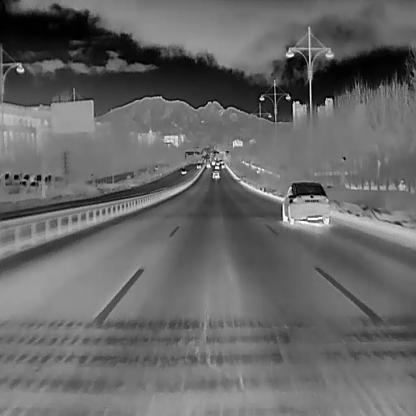car: (281, 181, 330, 224), (211, 170, 219, 179), (180, 167, 187, 174), (205, 162, 211, 168), (196, 162, 201, 168), (218, 159, 223, 164), (215, 164, 220, 169), (211, 159, 215, 165), (221, 164, 225, 169), (215, 160, 219, 164)
